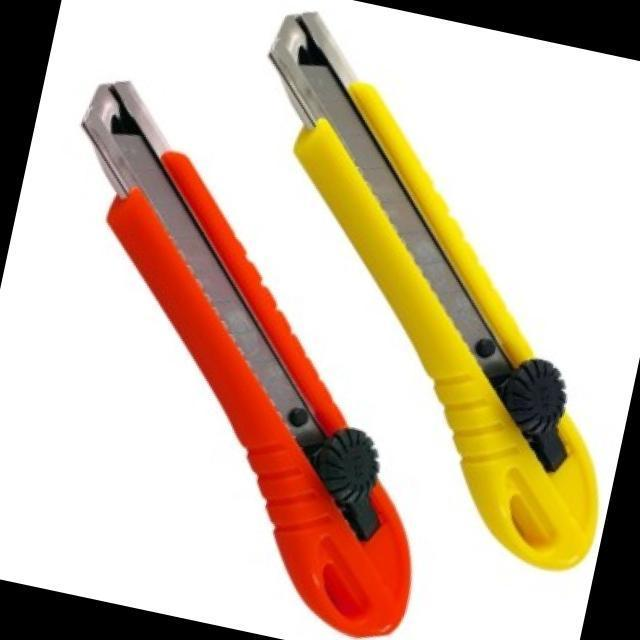cutter: (0, 69, 513, 640), (154, 0, 640, 588)
